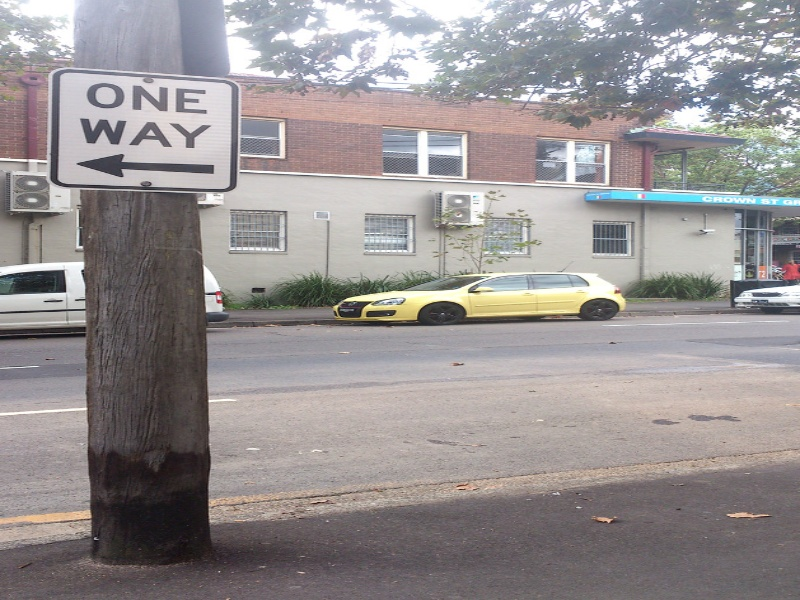left_direction: (73, 148, 219, 182)
